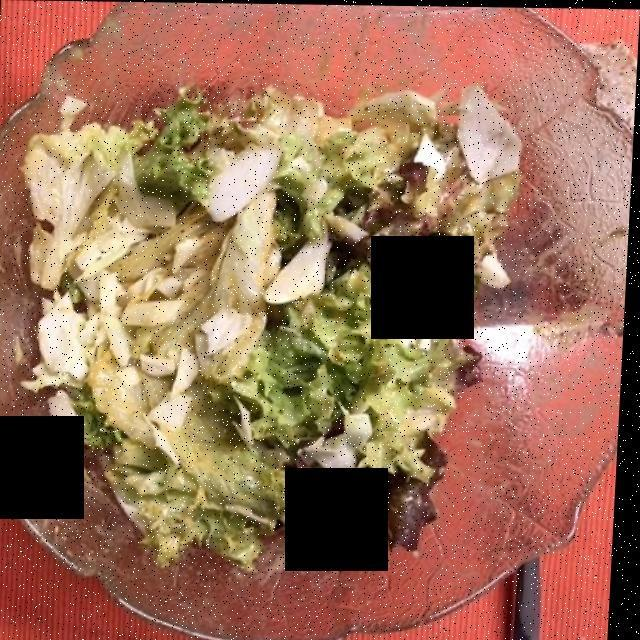salad: (29, 81, 507, 565)
